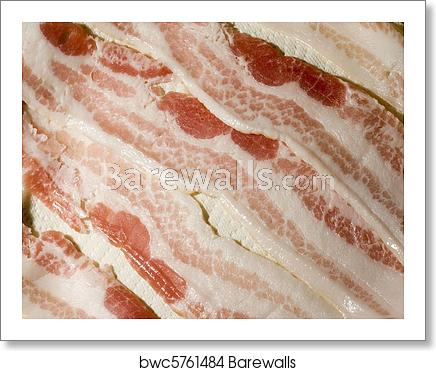bacon: (68, 54, 326, 165), (106, 212, 372, 304)
